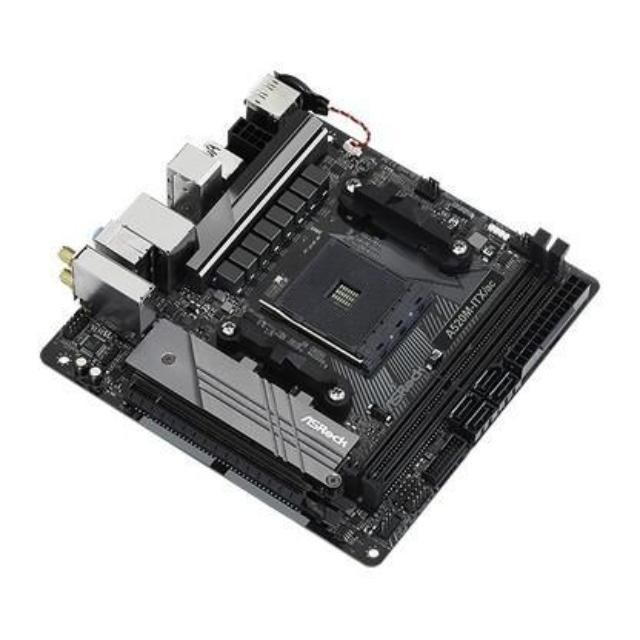Mainboard: (36, 67, 599, 579)
